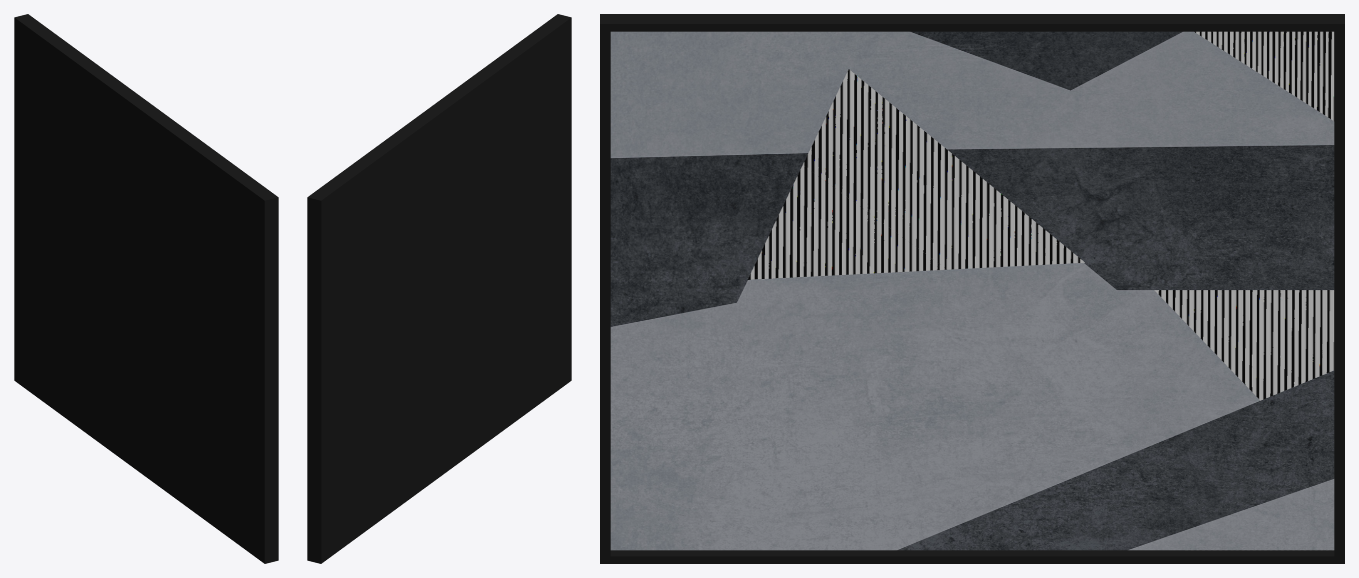
The model's file is tableau_art_abstrait.glb.
The picture shows the model from 3 angles, left to right: view 1: azimuth 30°, elevation 25°; view 2: azimuth 150°, elevation 25°; view 3: azimuth 270°, elevation 25°; orthographic projection. The views are drawn at different scales.
Visible parts, largest first — view 1: Cube; view 2: Cube; view 3: Cube.
Part boxes in pixels (x1=…): Cube: x1=14, y1=14, x2=278, y2=563; Cube: x1=307, y1=14, x2=571, y2=563; Cube: x1=600, y1=14, x2=1344, y2=563.
Bounding box in the file's own units: 0.0798 × 2 × 2.5.
2 materials, 1 textured.
